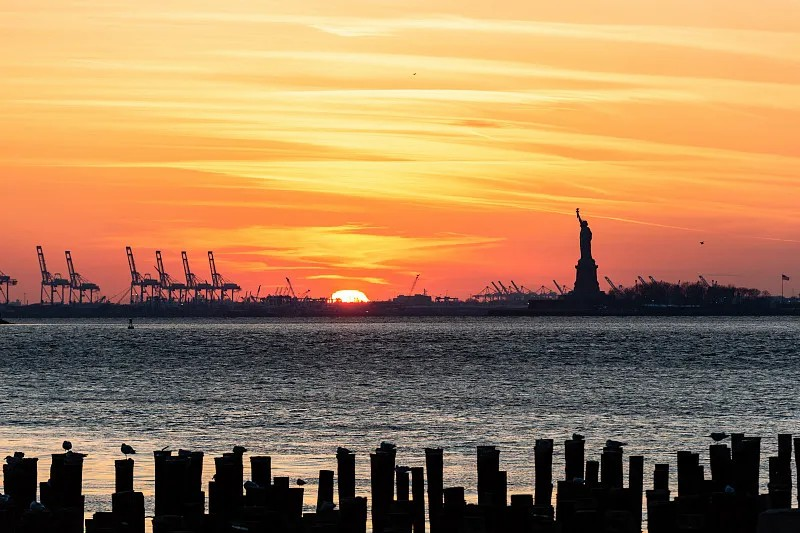SL: (574, 208, 599, 292)
